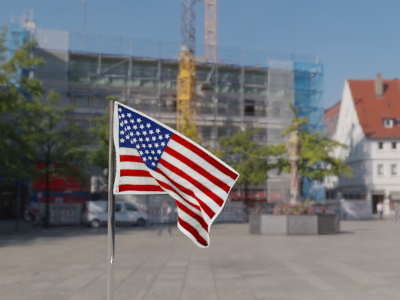America flag: (114, 101, 242, 250)
